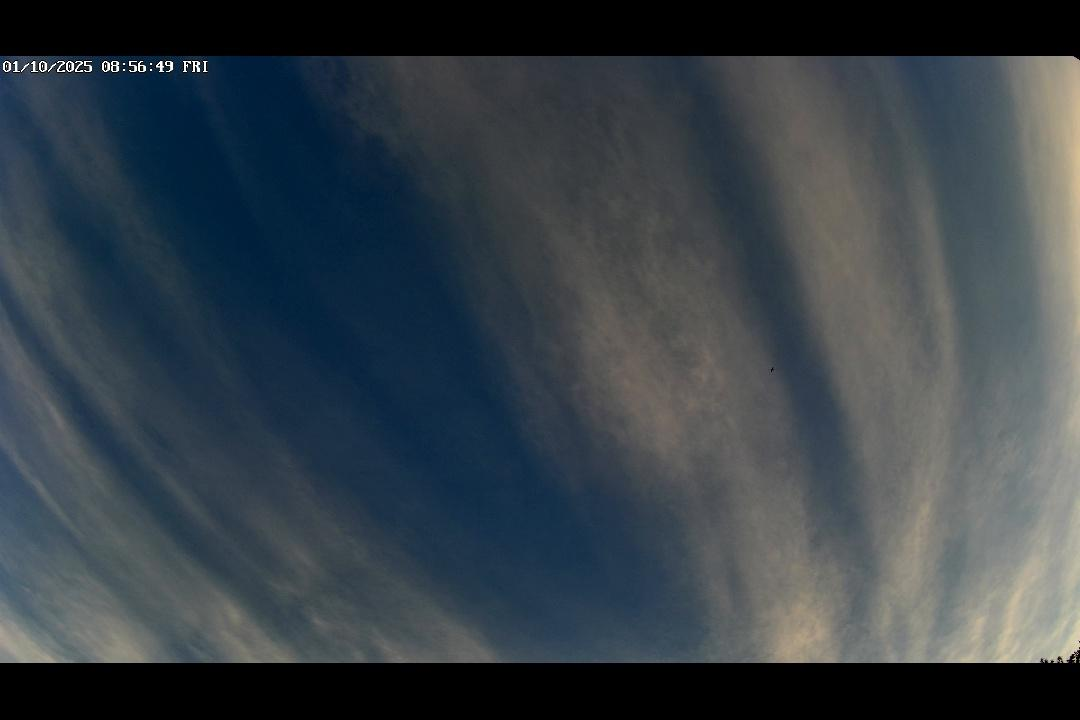WildLife: (768, 364, 778, 373)
